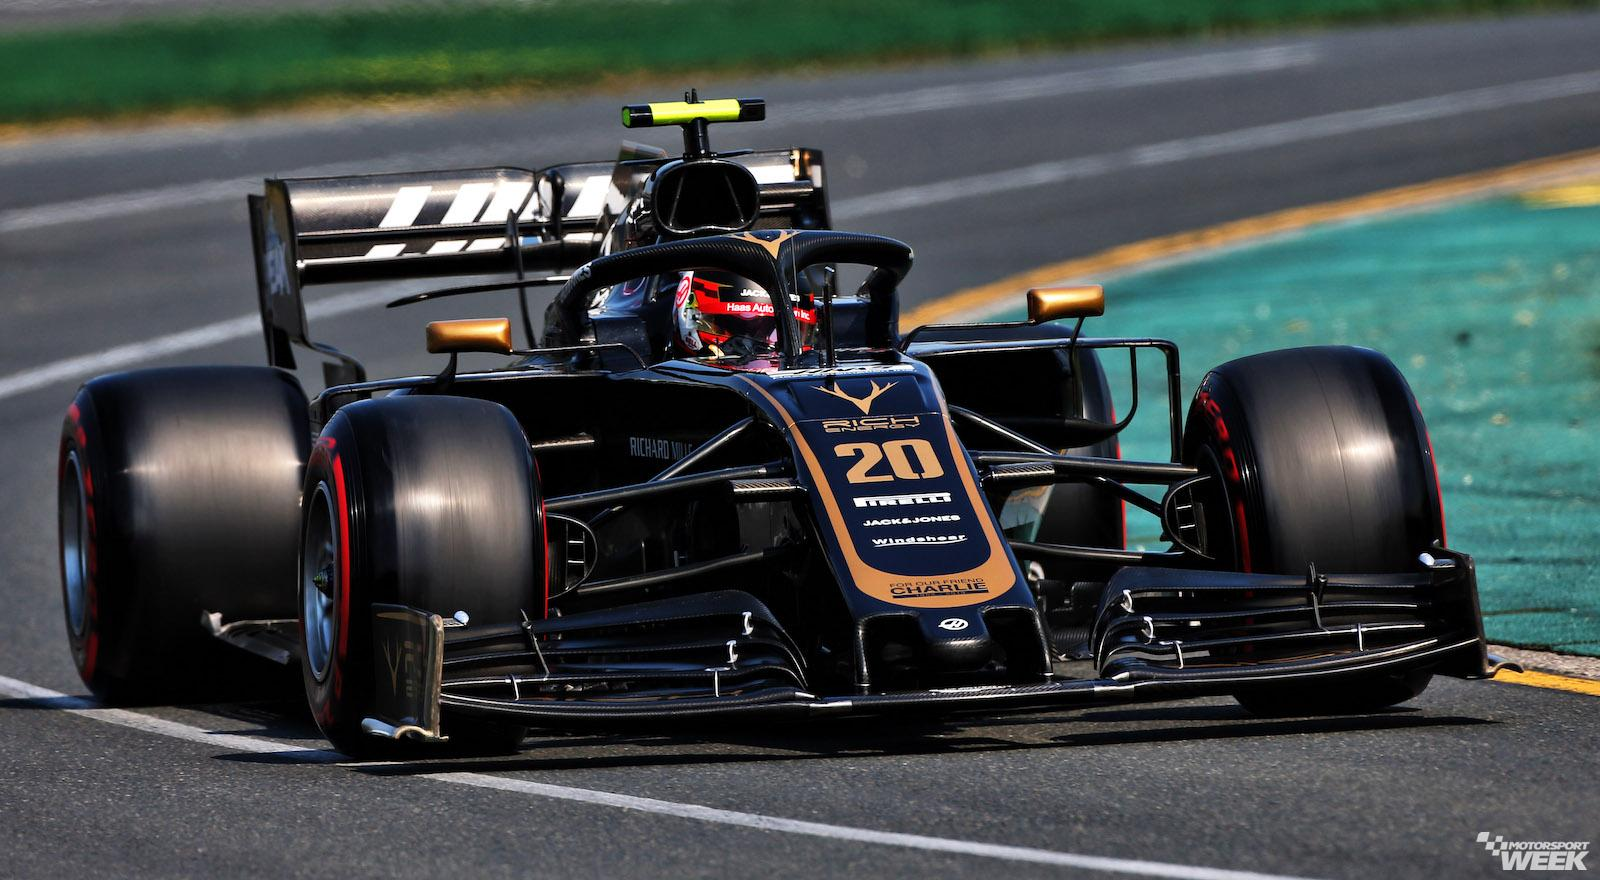f1_car: (32, 73, 1549, 786)
helmet: (665, 243, 832, 375)
